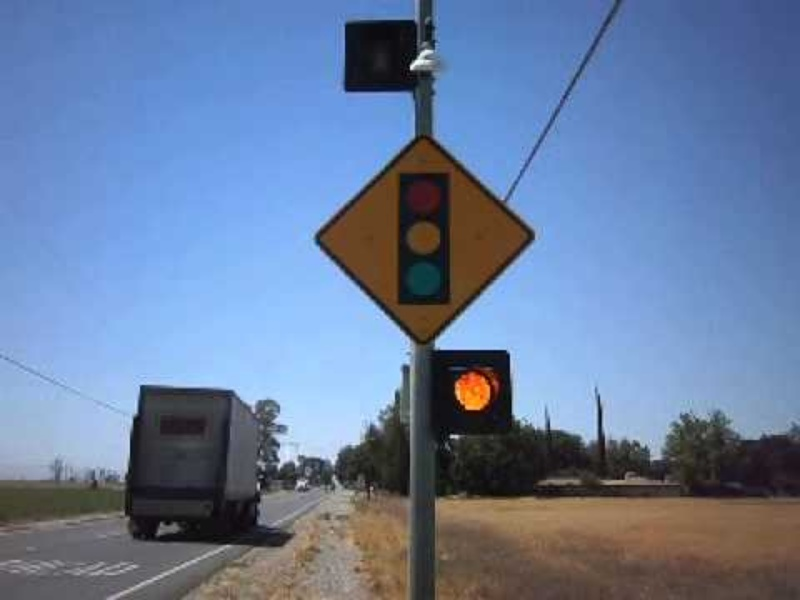traffic signal sign: (312, 133, 539, 351)
